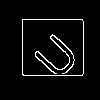U: (25, 25, 82, 82)
